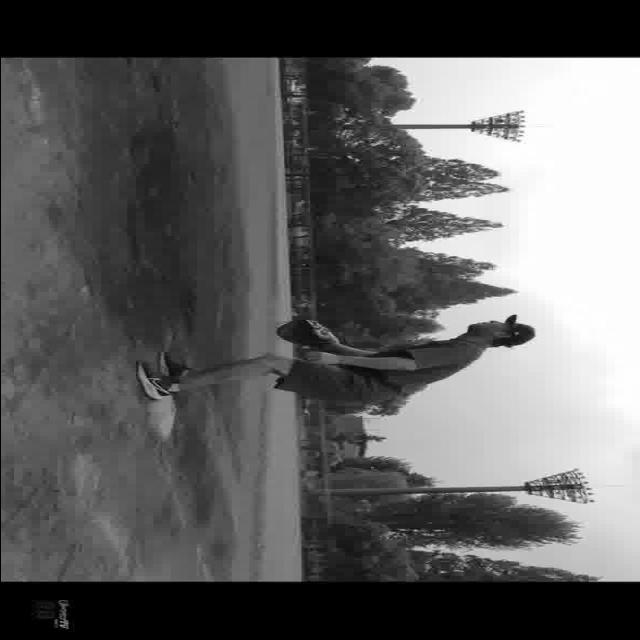base: (152, 392, 175, 442)
baseball_glove: (264, 318, 336, 348)
shoe: (130, 359, 174, 398), (158, 350, 198, 390)
